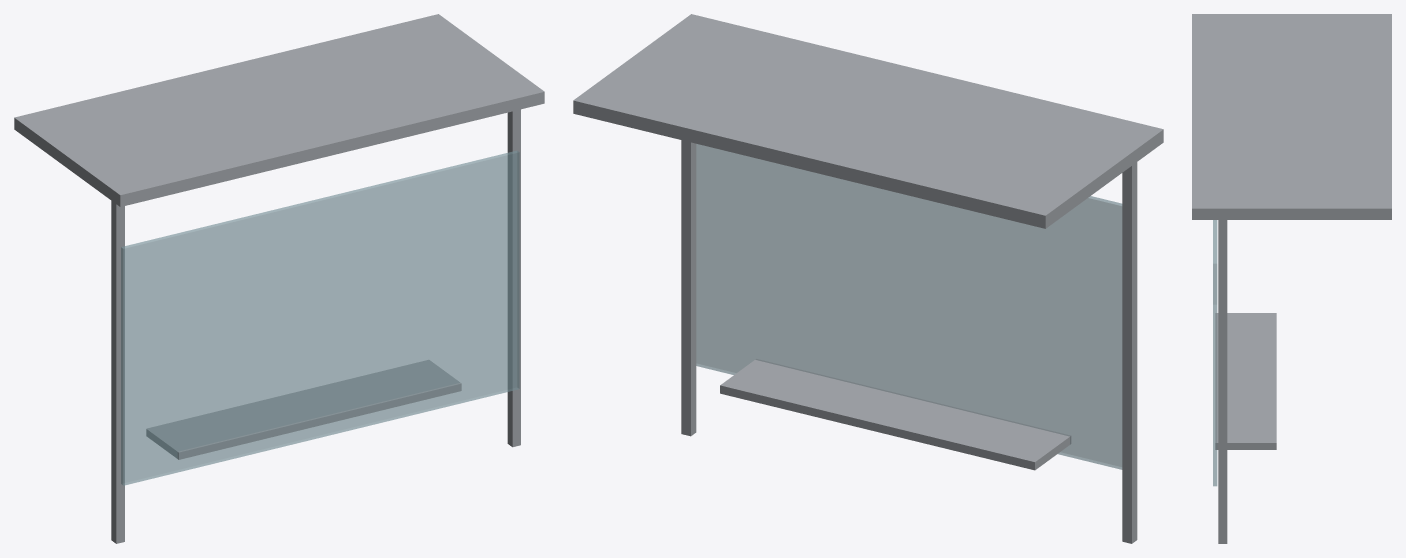
The model's file is bus_stop_shelter.glb.
3 renders of one model, left to right at view 1: azimuth 30°, elevation 25°; view 2: azimuth 150°, elevation 25°; view 3: azimuth 270°, elevation 25°, orthographic. The views are drawn at different scales.
Visible parts, largest first — view 1: bus_stop_shelter; view 2: bus_stop_shelter; view 3: bus_stop_shelter.
Boxes of the visible parts, x1,y1,x2,y2 form: bus_stop_shelter: (14,14,544,543); bus_stop_shelter: (573,14,1163,543); bus_stop_shelter: (1192,14,1391,543).
Size of the model in its own units: 3 by 2.44 by 1.3.
